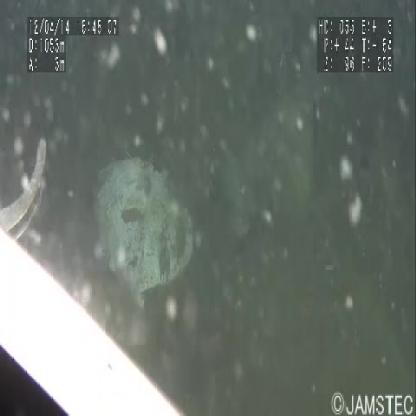Rác: (95, 157, 195, 311)
